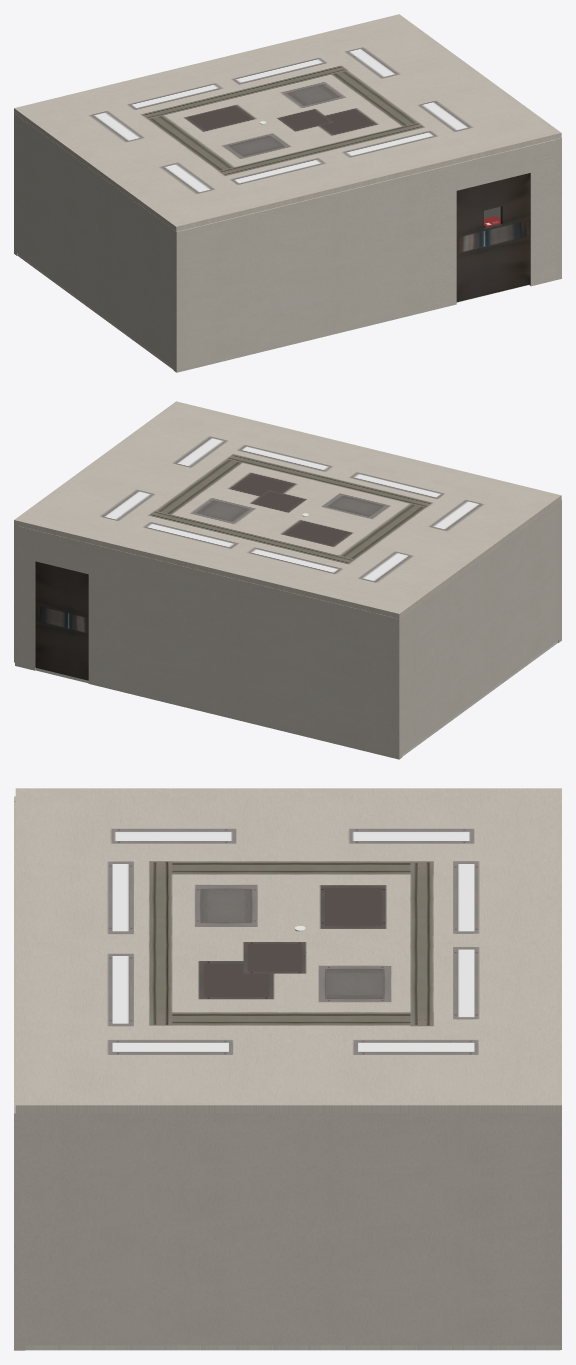
Rendered from Quirofano.fbx.
3 renders of one model, top to bottom at view 1: azimuth 30°, elevation 25°; view 2: azimuth 150°, elevation 25°; view 3: azimuth 270°, elevation 25°, orthographic. The views are drawn at different scales.
Visible parts, largest first — view 1: Techo1, ParedE, ParedN, PuertaPrincipal, piso; view 2: Techo1, ParedOe, ParedN, Puerta2, piso; view 3: Techo1, ParedS, piso, ParedE.
Part boxes in pixels (x1,y1,x2,y2): Techo1: (14,14,561,231); ParedE: (173,138,561,372); ParedN: (14,113,181,369); PuertaPrincipal: (456,173,530,302); piso: (17,253,528,369); Techo1: (14,401,561,618); ParedOe: (15,525,402,759); ParedN: (399,500,561,756); Puerta2: (35,561,88,680); piso: (35,640,557,756); Techo1: (15,788,561,1113); ParedS: (14,1109,561,1345); piso: (25,1345,560,1350); ParedE: (14,797,25,1350).
Size of the model in its own units: 51.91 by 18.83 by 37.93.
